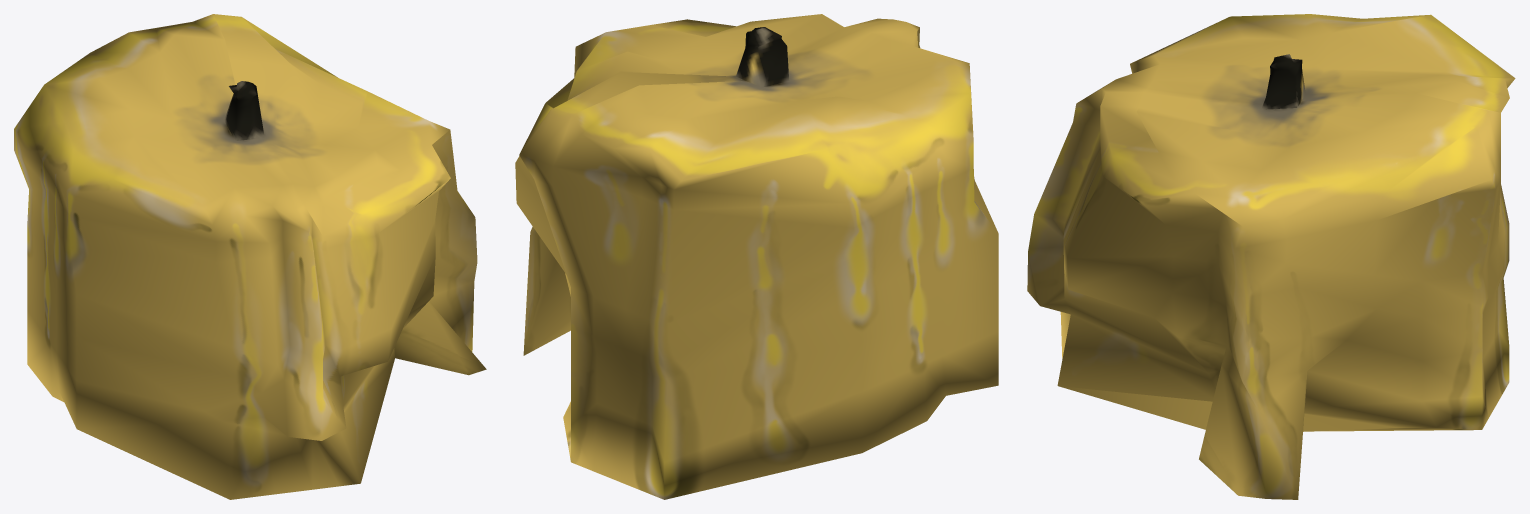
The model's file is Candle_Nib.fbx.
3 renders of one model, left to right at view 1: azimuth 30°, elevation 25°; view 2: azimuth 150°, elevation 25°; view 3: azimuth 270°, elevation 25°, orthographic. The views are drawn at different scales.
Visible parts, largest first — view 1: Candel_NIb; view 2: Candel_NIb; view 3: Candel_NIb.
Boxes of the visible parts, x1,y1,x2,y2 form: Candel_NIb: [14, 14, 486, 499]; Candel_NIb: [515, 14, 998, 499]; Candel_NIb: [1027, 14, 1515, 499].
Size of the model in its own units: 8 by 6.6 by 8.12.
